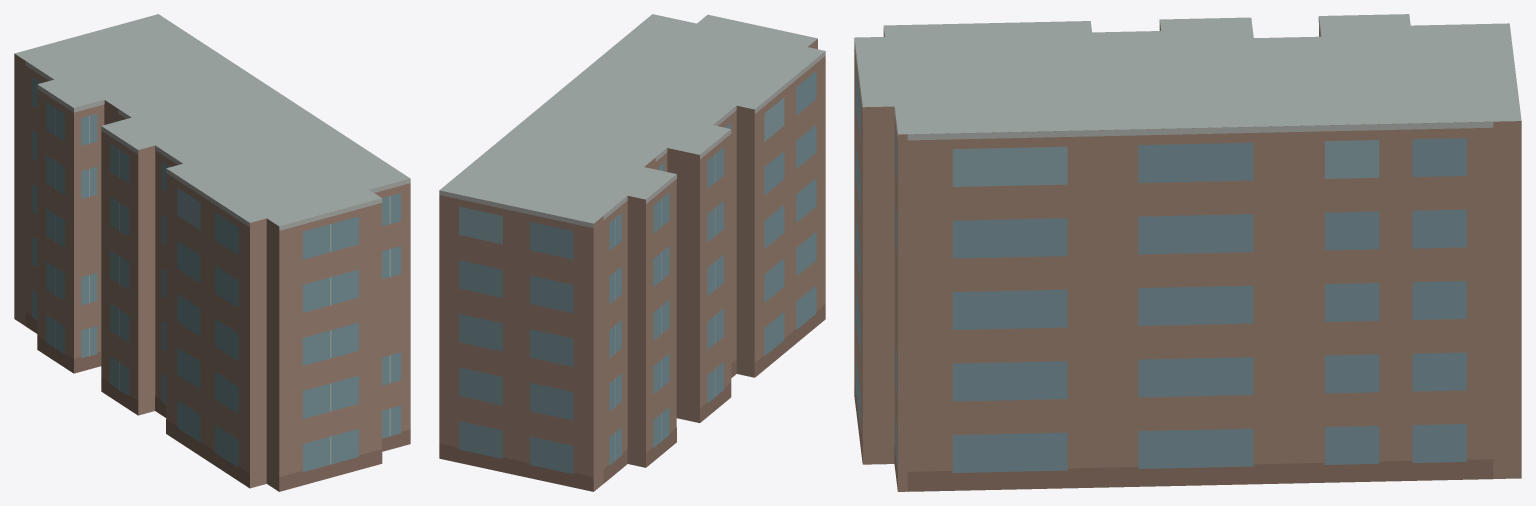
Rendered from survey-upis-32952154.glb.
3 views of the same model, side by side, from view 1: azimuth 30°, elevation 25°; view 2: azimuth 150°, elevation 25°; view 3: azimuth 270°, elevation 25° (orthographic). The views are drawn at different scales.
Parts seen in each view (by area): view 1: survey-upis-32952154.tmp; view 2: survey-upis-32952154.tmp; view 3: survey-upis-32952154.tmp.
Boxes of the visible parts, x1,y1,x2,y2 form: survey-upis-32952154.tmp: [14, 14, 410, 491]; survey-upis-32952154.tmp: [439, 14, 825, 491]; survey-upis-32952154.tmp: [854, 14, 1521, 491].
Size of the model in its own units: 10.27 by 14.2 by 24.04.
